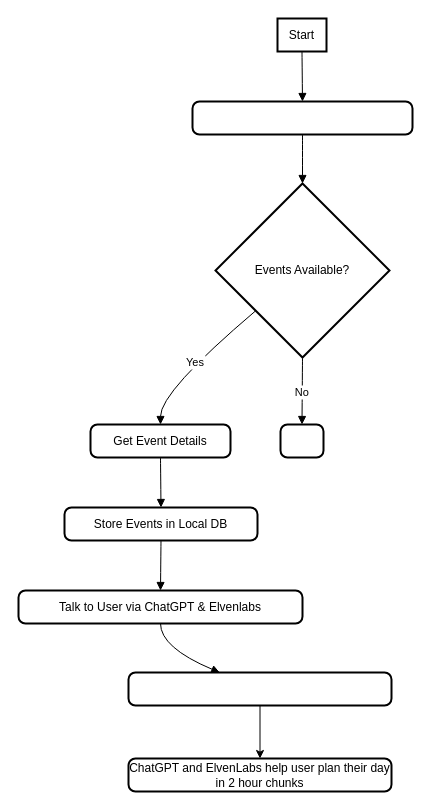
The diagram is 430 pixels wide and 809 high, and some of its shapes have lost their labels. Each missing label, with the centre of its shape:
End: point (301, 440)
Get Google Calendar Events: point (302, 117)
Update Events in Google Calendar: point (259, 688)
